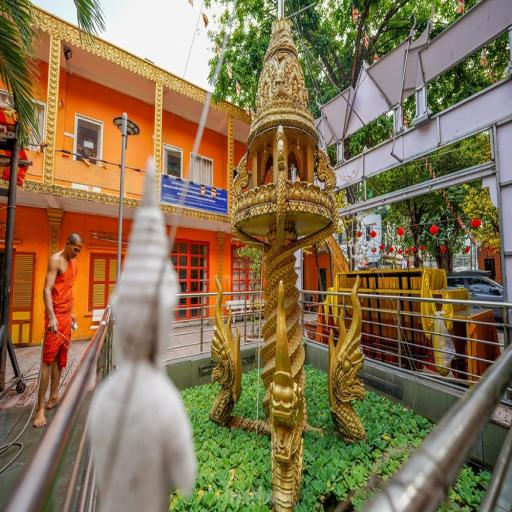ran: (254, 276, 317, 512), (319, 271, 375, 443), (204, 266, 247, 442), (267, 119, 295, 250), (314, 144, 338, 208), (230, 147, 252, 198)
than: (83, 154, 207, 512)
